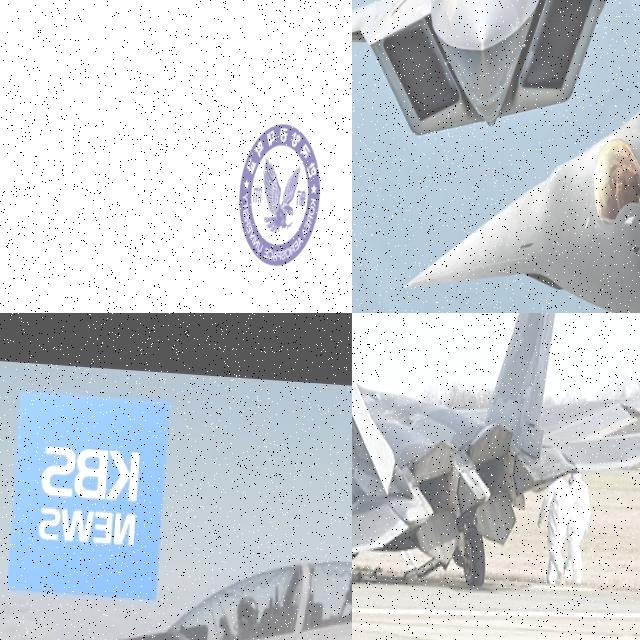F22: (352, 313, 640, 610), (352, 0, 640, 154)
KAU_Marker: (234, 121, 324, 270)
KT-1: (0, 511, 352, 640)
